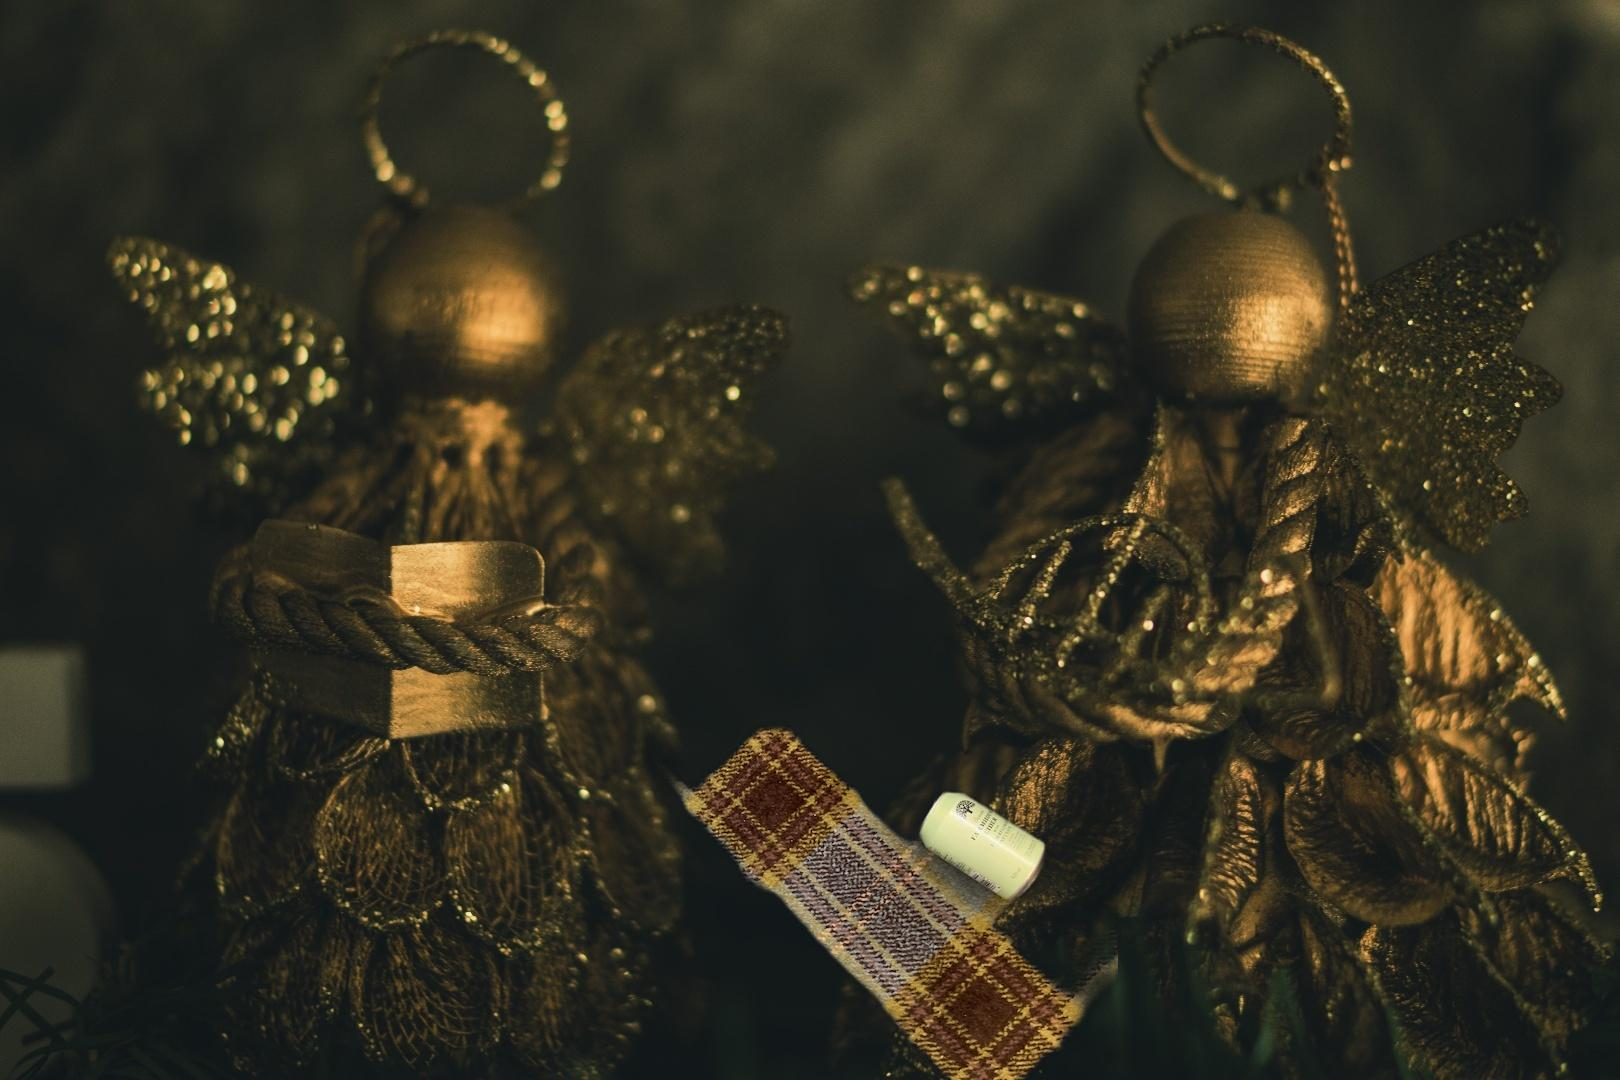metal-cans: (606, 501, 1119, 1080)
